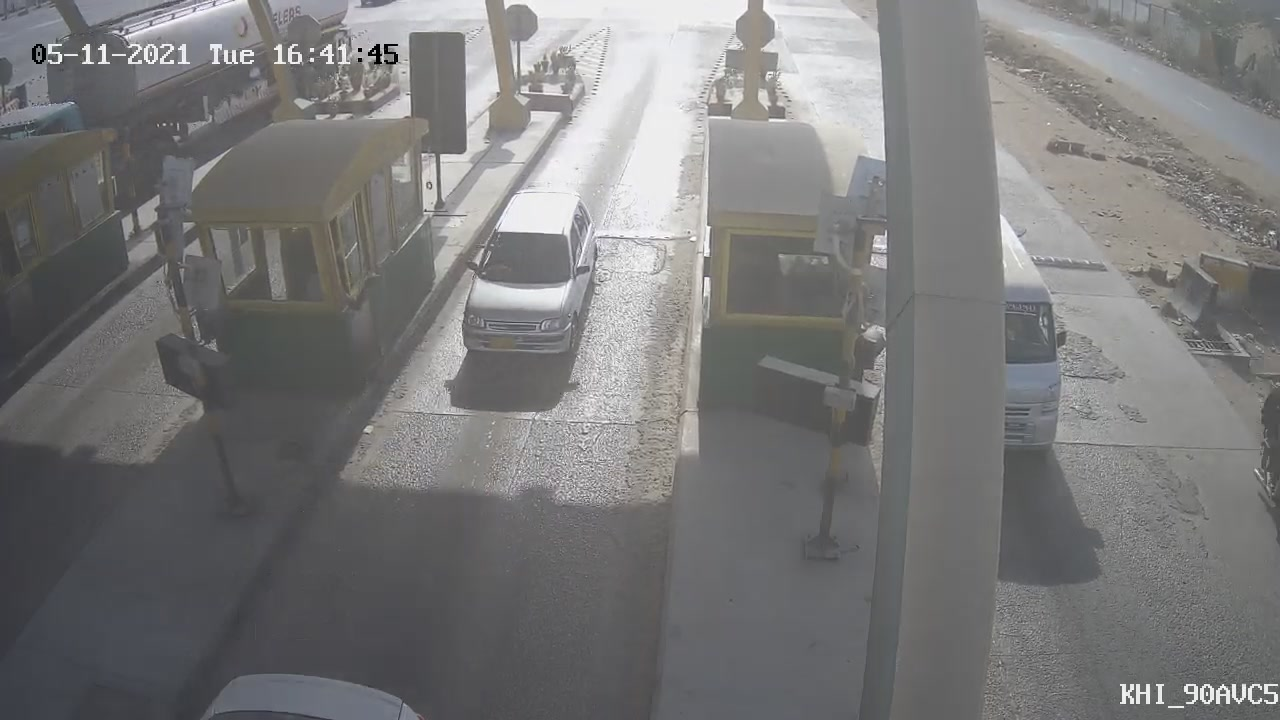F1: (450, 177, 620, 379)
